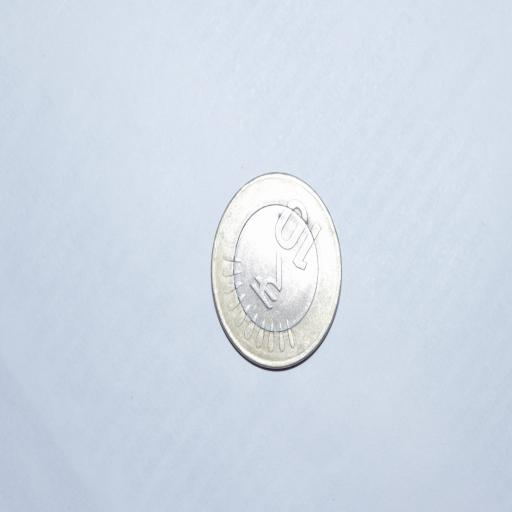rupee10: (211, 173, 342, 368)
